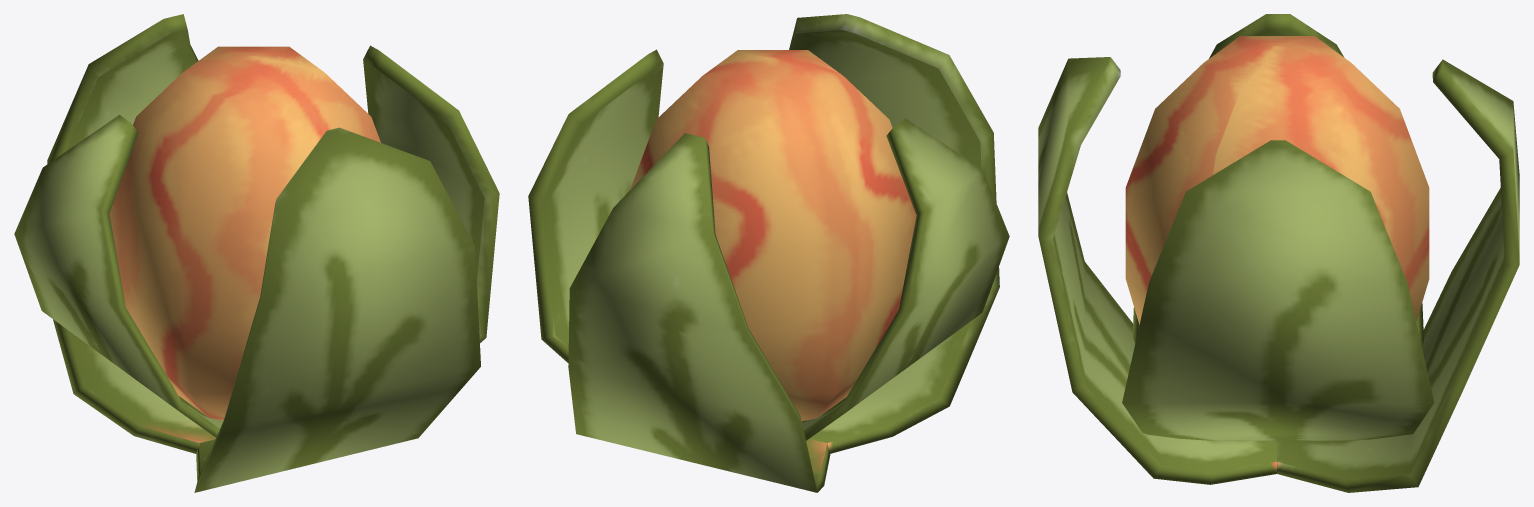
The model's file is Seeds.fbx_BigLeavesSeed.fbx.
3 views of the same model, side by side, from view 1: azimuth 30°, elevation 25°; view 2: azimuth 150°, elevation 25°; view 3: azimuth 270°, elevation 25° (orthographic). The views are drawn at different scales.
Parts seen in each view (by area): view 1: BigLeavesSeed; view 2: BigLeavesSeed; view 3: BigLeavesSeed.
Part boxes in pixels (x1,y1,x2,y2): BigLeavesSeed: [14, 14, 499, 492]; BigLeavesSeed: [528, 14, 1009, 492]; BigLeavesSeed: [1038, 14, 1519, 492].
Bounding box in the file's own units: 31.87 × 31.4 × 34.32.
